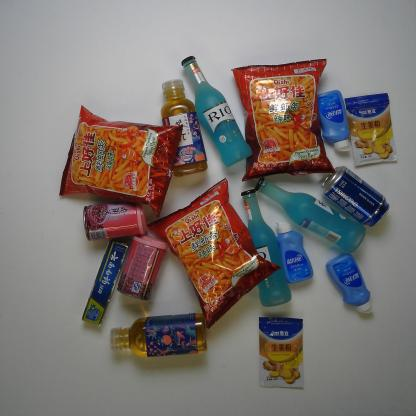Alcohol: (250, 174, 372, 251), (180, 54, 253, 169), (240, 187, 293, 309), (324, 162, 394, 229)
Canned Food: (118, 231, 170, 301), (80, 195, 148, 242)
Drink: (154, 76, 212, 178), (108, 311, 209, 360)
Personal Hygiene: (76, 238, 127, 331), (325, 251, 377, 318), (274, 218, 314, 285), (314, 85, 352, 155)
Puffed Food: (148, 178, 285, 332), (58, 102, 186, 217), (230, 59, 336, 181)
Seasoner: (341, 90, 399, 167), (258, 315, 306, 391)
